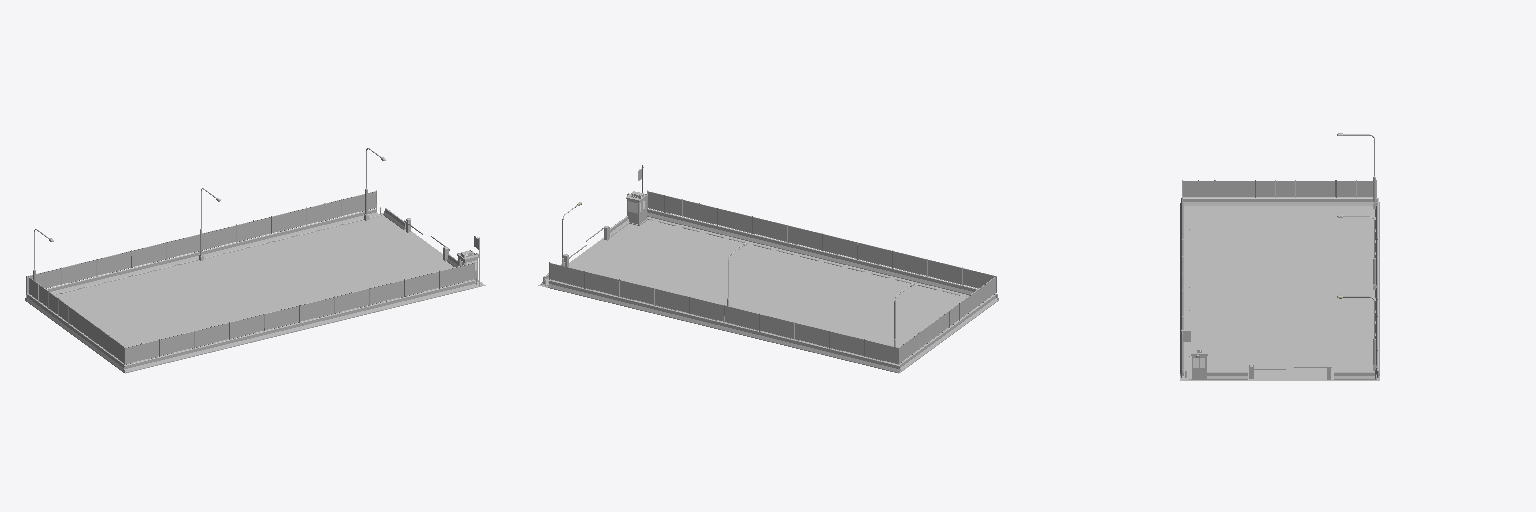
File: ParkinLot.obj
3 views of the same model, side by side, from view 1: azimuth 30°, elevation 25°; view 2: azimuth 150°, elevation 25°; view 3: azimuth 270°, elevation 25° (orthographic).
Visible parts, largest first — view 1: Base; view 2: Base; view 3: Base.
Boxes of the visible parts, box(x1,y1,x2,y2) form: Base: box(25, 148, 485, 373); Base: box(538, 165, 998, 373); Base: box(1180, 133, 1379, 380).
Size of the model in its own units: 35.97 by 7.06 by 17.21.